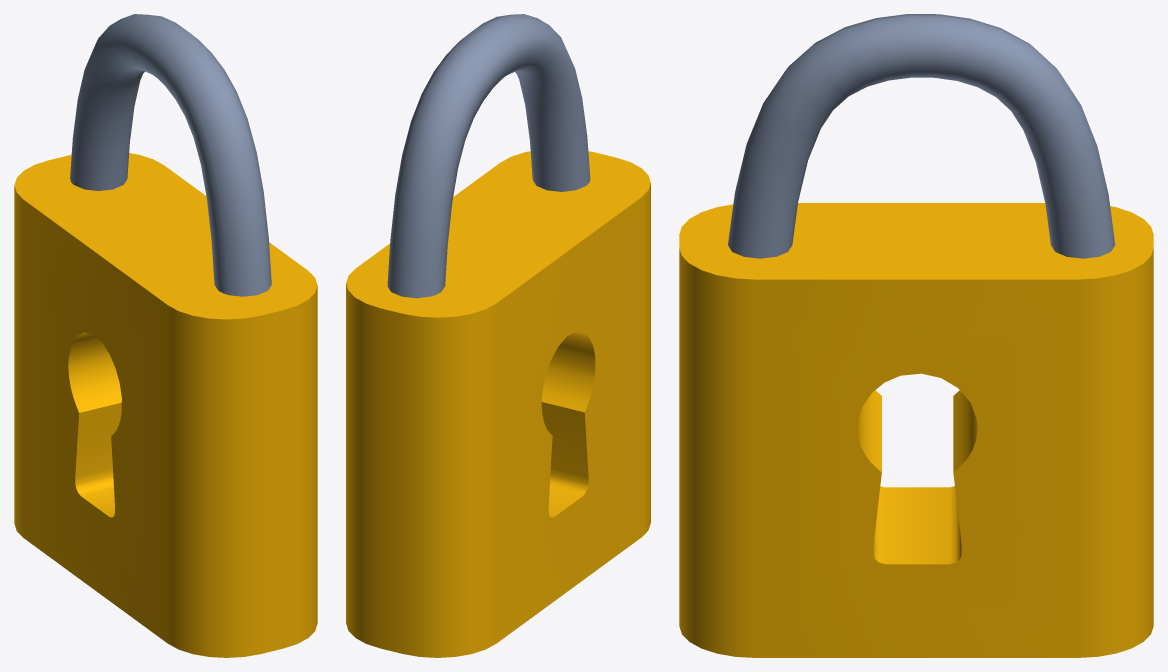
The model's file is Lock.fbx.
3 renders of one model, left to right at view 1: azimuth 30°, elevation 25°; view 2: azimuth 150°, elevation 25°; view 3: azimuth 270°, elevation 25°, orthographic. The views are drawn at different scales.
Visible parts, largest first — view 1: Lock; view 2: Lock; view 3: Lock.
Boxes of the visible parts, bbox=[...] form: Lock: bbox=[14, 14, 317, 657]; Lock: bbox=[346, 14, 650, 657]; Lock: bbox=[679, 14, 1153, 657].
Bounding box in the file's own units: 19.67 × 72.53 × 51.42.
